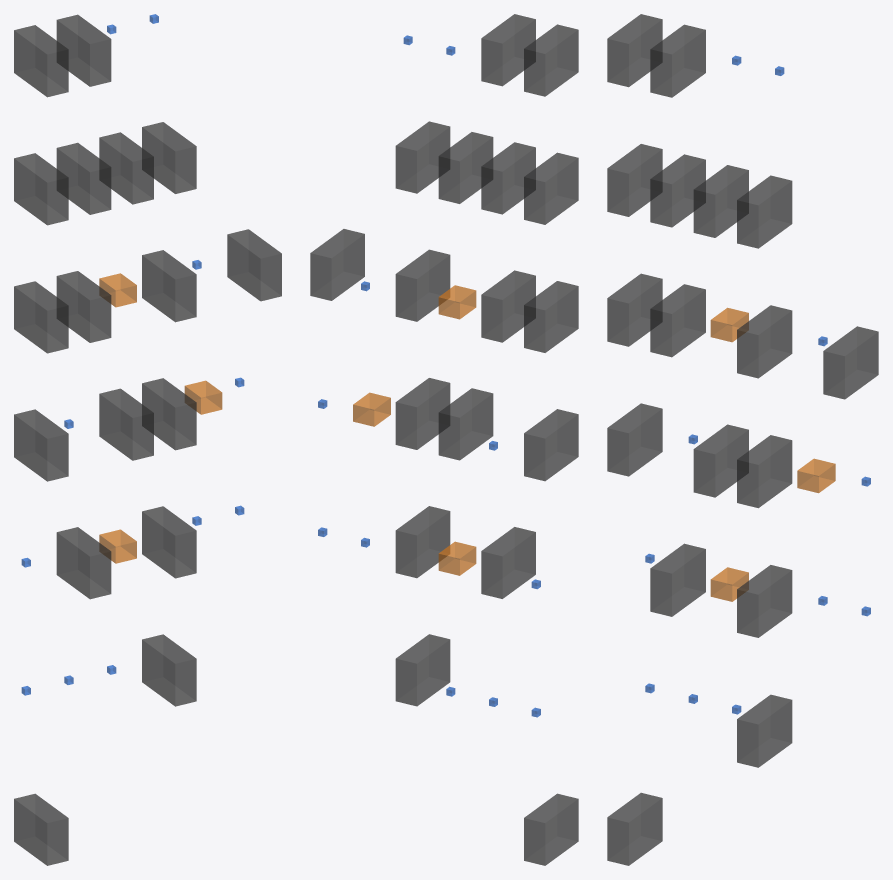
The model's file is narkomfin_variant_00.obj.
The picture shows the model from 3 angles, left to right: view 1: azimuth 30°, elevation 25°; view 2: azimuth 150°, elevation 25°; view 3: azimuth 330°, elevation 25°; orthographic projection.
Parts seen in each view (by area): view 1: b, n13, n19, n11, n2, n17, n1, n5, n15, n3, n6, n10 (+8 smaller); view 2: n2, n3, n1, n10, n4, n12, n14, n15, n18, b, n5, n16 (+8 smaller); view 3: n5, n6, n14, n19, n10, b, n3, n15, n4, n11, n1, n12 (+8 smaller).
Part boxes in pixels (x1,y1,x2,y2): b: (56, 527, 111, 599); n13: (56, 142, 111, 214); n19: (56, 14, 111, 86); n11: (56, 271, 111, 342); n2: (99, 388, 153, 460); n17: (14, 153, 68, 225); n1: (142, 506, 196, 578); n5: (14, 793, 68, 865); n15: (14, 409, 68, 481); n3: (142, 634, 196, 706); n6: (227, 229, 281, 301); n10: (142, 250, 196, 322); n2: (438, 388, 493, 460); n3: (395, 634, 450, 706); n1: (395, 506, 450, 578); n10: (395, 249, 450, 321); n4: (395, 378, 450, 449); n12: (438, 132, 493, 203); n14: (395, 121, 450, 193); n15: (524, 409, 578, 481); n18: (524, 24, 578, 96); b: (481, 527, 535, 598); n5: (524, 793, 578, 865); n16: (524, 281, 578, 352); n5: (607, 792, 662, 865); n6: (823, 326, 878, 399); n14: (737, 175, 792, 248); n19: (650, 24, 705, 97); n10: (737, 305, 792, 378); b: (650, 543, 705, 616); n3: (737, 694, 792, 767); n15: (607, 403, 662, 476); n4: (737, 435, 792, 508); n11: (650, 284, 705, 357); n1: (737, 565, 792, 637); n12: (693, 165, 748, 237).
Size of the model in its own units: 40.26 by 133 by 9.9.
